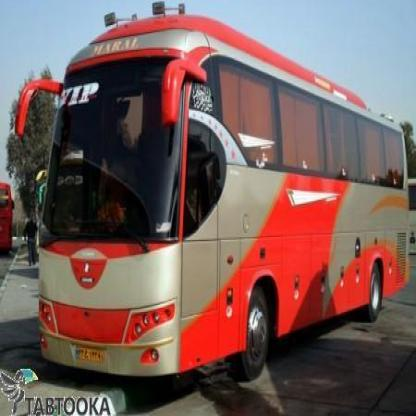Bus: (32, 14, 412, 384), (0, 183, 16, 254)
